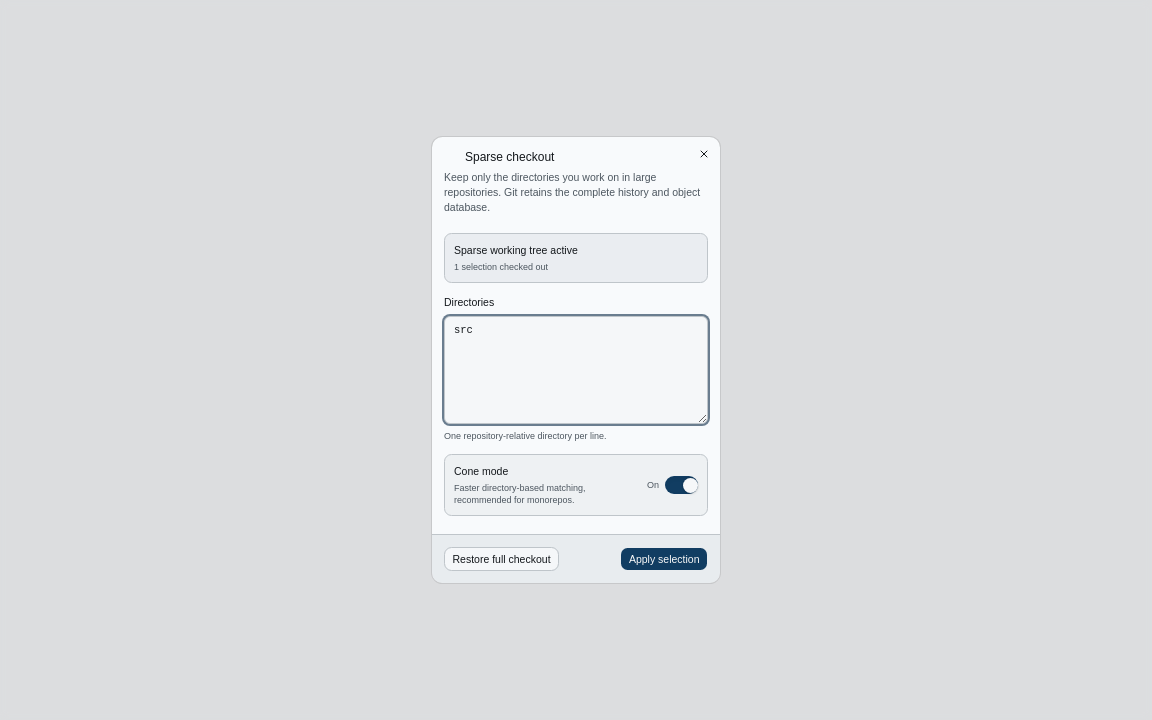
it: SparseCheckoutManagerContent › requires confirmation before restoring the full working tree
Click the button "Restore full checkout" at (502, 559), box [444,547,559,571]
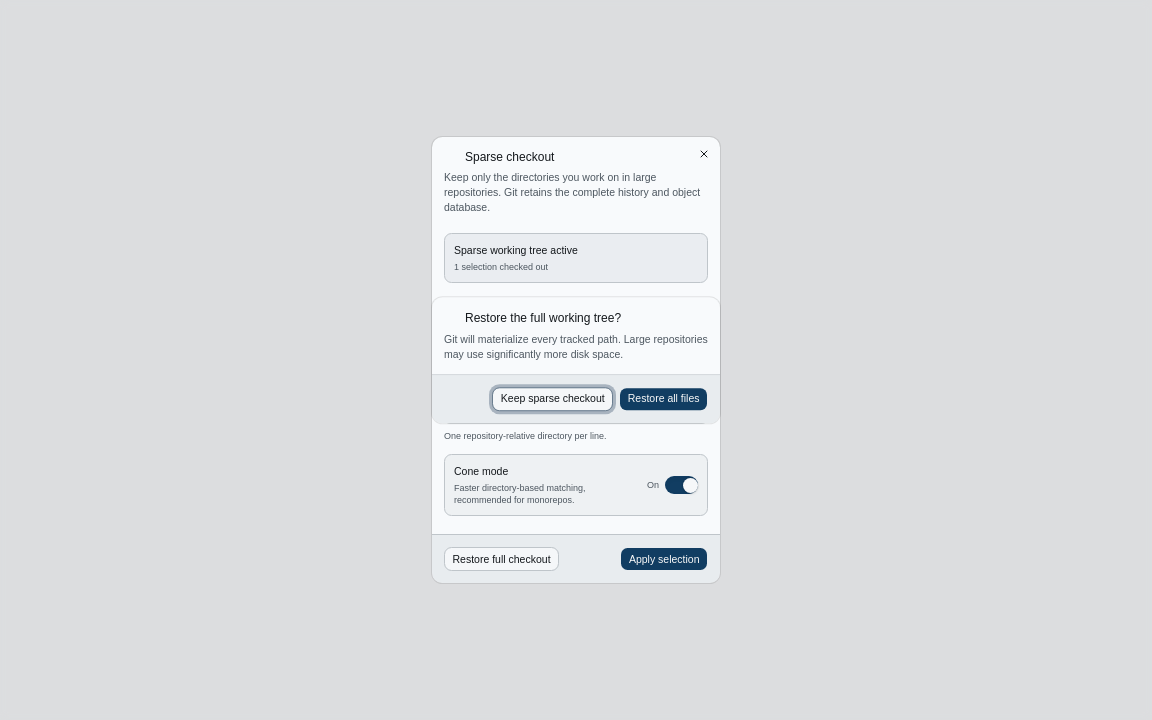
Expected: the heading "Restore the full working tree?" is shown, [444,309,621,327]
Click the button "Restore all files" at (664, 399), box [619,387,708,411]
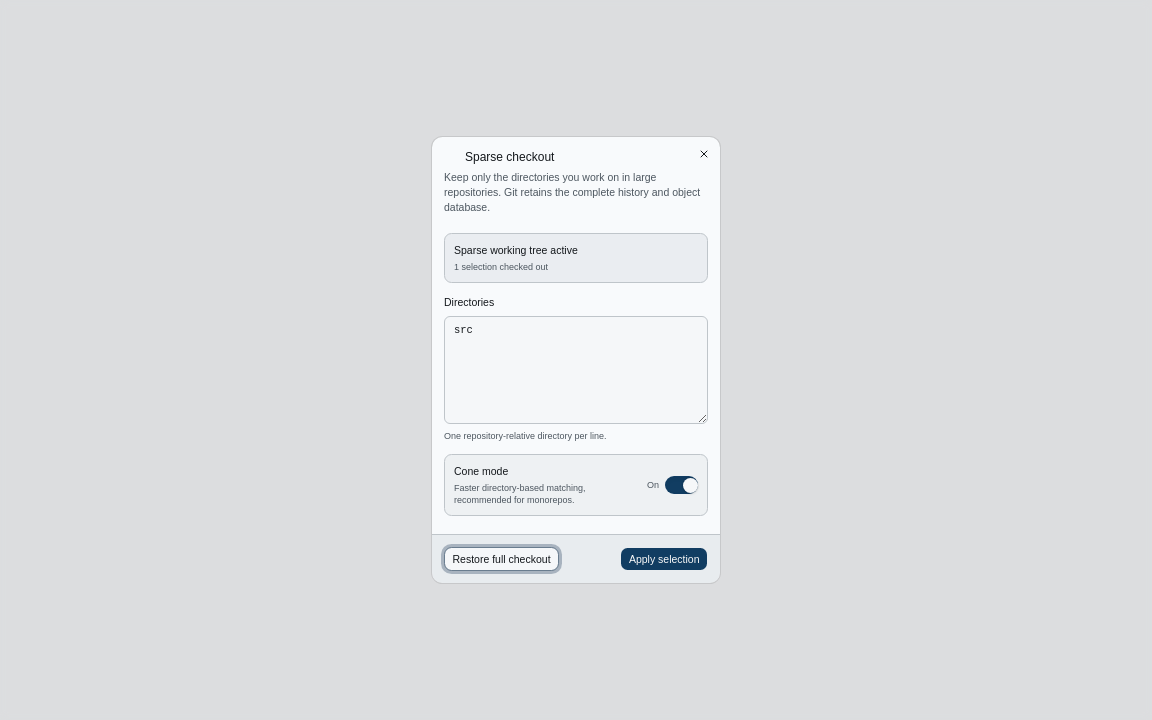
Expected: the heading "Restore the full working tree?" is gone
